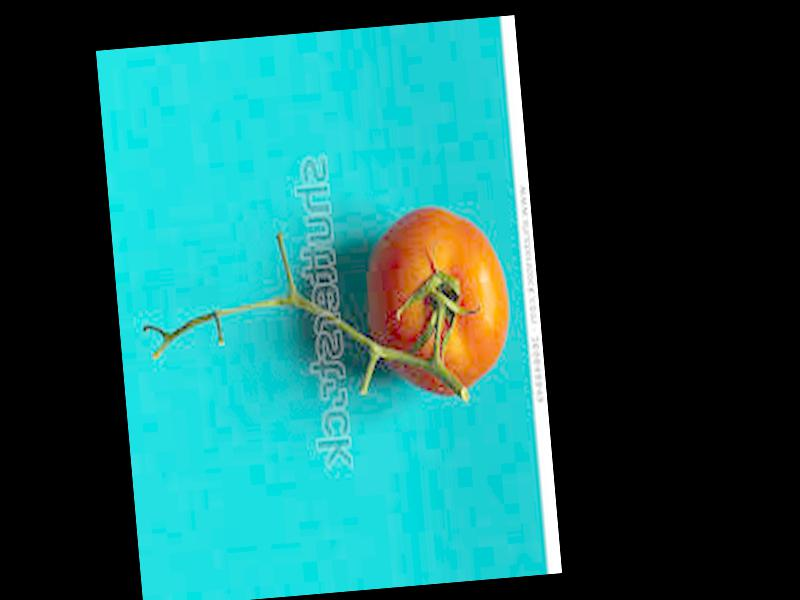Tomato: (363, 202, 513, 403)
